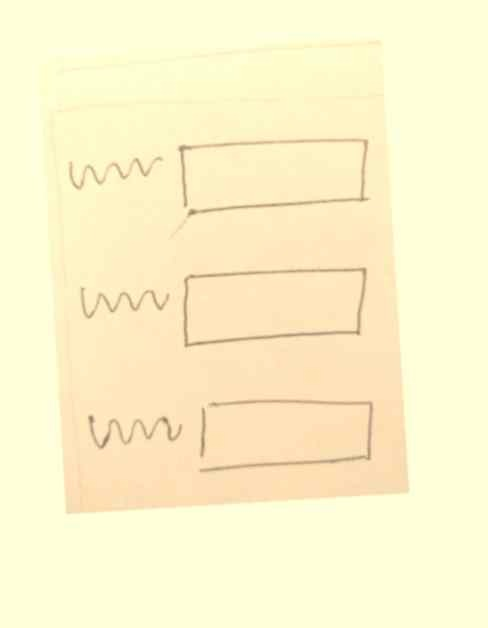text: (82, 402, 186, 462), (74, 274, 173, 334), (62, 146, 166, 194)
text_input: (171, 121, 378, 223), (190, 383, 381, 483), (176, 259, 379, 353)
